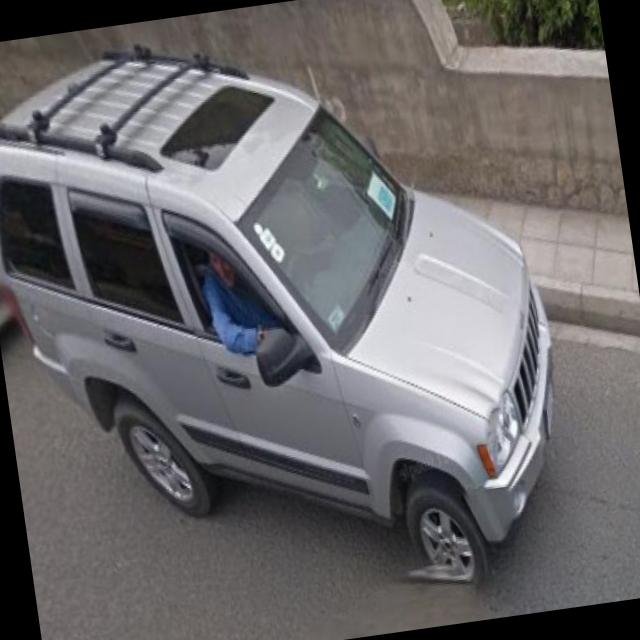car: (0, 4, 577, 636)
